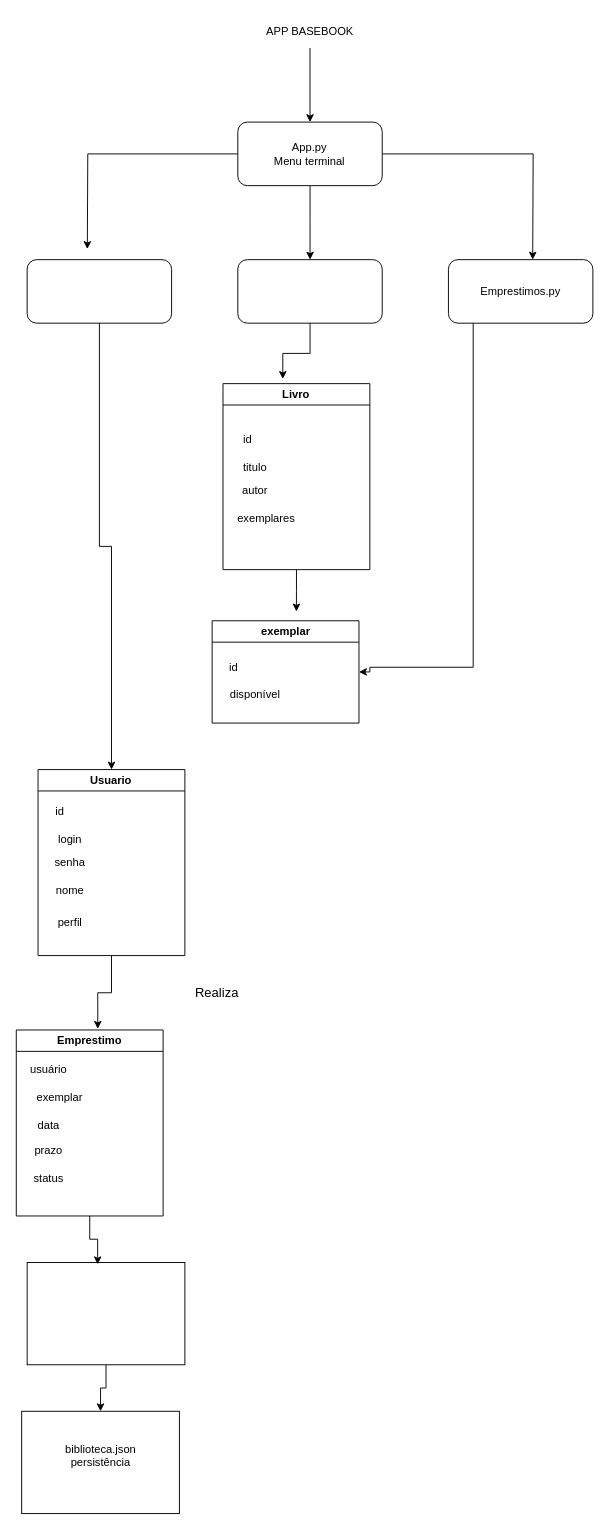
The diagram is 609 pixels wide and 1530 high, and some of its shapes have lost their labels. The shapes that lost their labels are listed below. From the top down, each one's centre as x and y in pixels, then its label:
the point at 99,291: usuarios.py
the point at 309,291: Livros.py
the point at 105,1313: Storege.py Leitura / escrita
